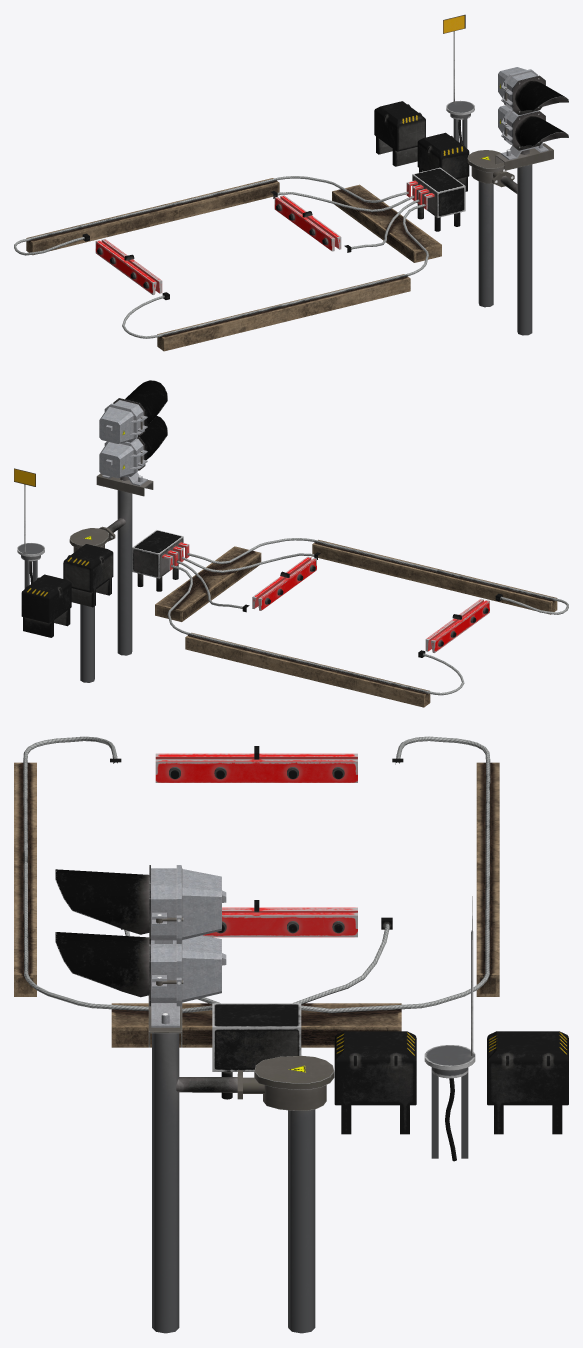
Rendered from RM_sig_M_KM1_WR_2_shnt.gltf.
3 views of the same model, one above another, from view 1: azimuth 30°, elevation 25°; view 2: azimuth 150°, elevation 25°; view 3: azimuth 270°, elevation 25° (orthographic). The views are drawn at different scales.
Parts seen in each view (by area): view 1: Изостык, Светофор 3; view 2: Изостык, Светофор 3; view 3: Изостык, Светофор 3.
Boxes of the visible parts, <box> form: Изостык: <box>14,14,474,351</box>; Светофор 3: <box>467,67,568,335</box>; Изостык: <box>14,468,568,707</box>; Светофор 3: <box>69,380,167,682</box>; Изостык: <box>14,736,568,1161</box>; Светофор 3: <box>55,865,334,1333</box>.
Size of the model in its own units: 4.06 by 2.2 by 2.43.
Materials: 2 (2 with a texture image).
